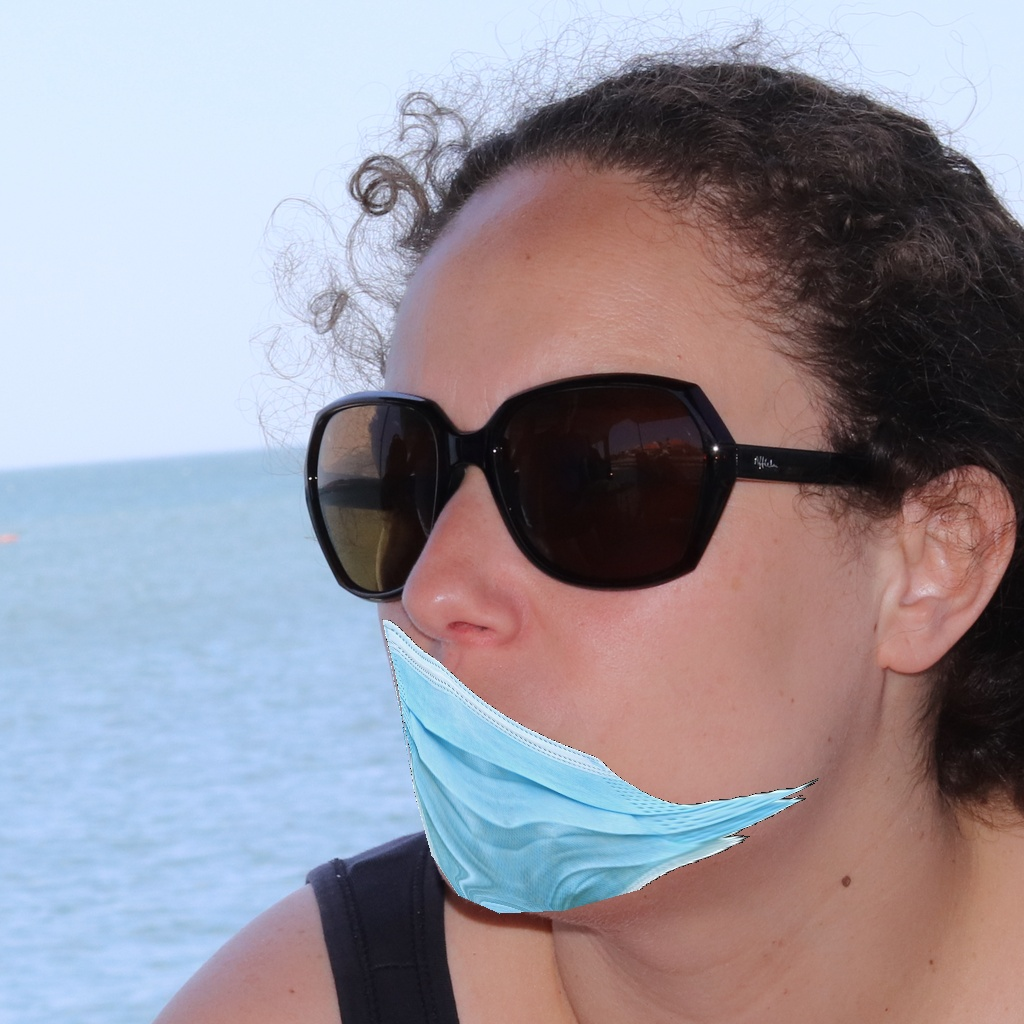mascarilla_mal_puesta: (289, 380, 937, 920)
